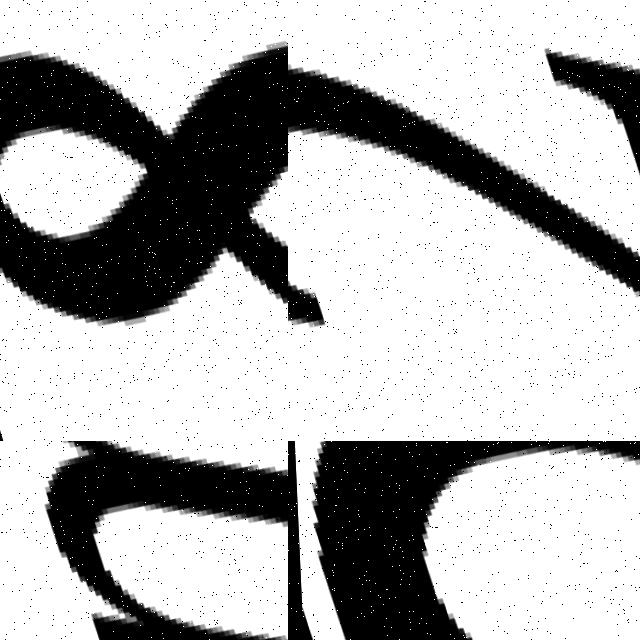2: (288, 0, 640, 441)
8: (0, 0, 288, 441)
M: (0, 441, 288, 640)
O: (309, 441, 640, 640)
